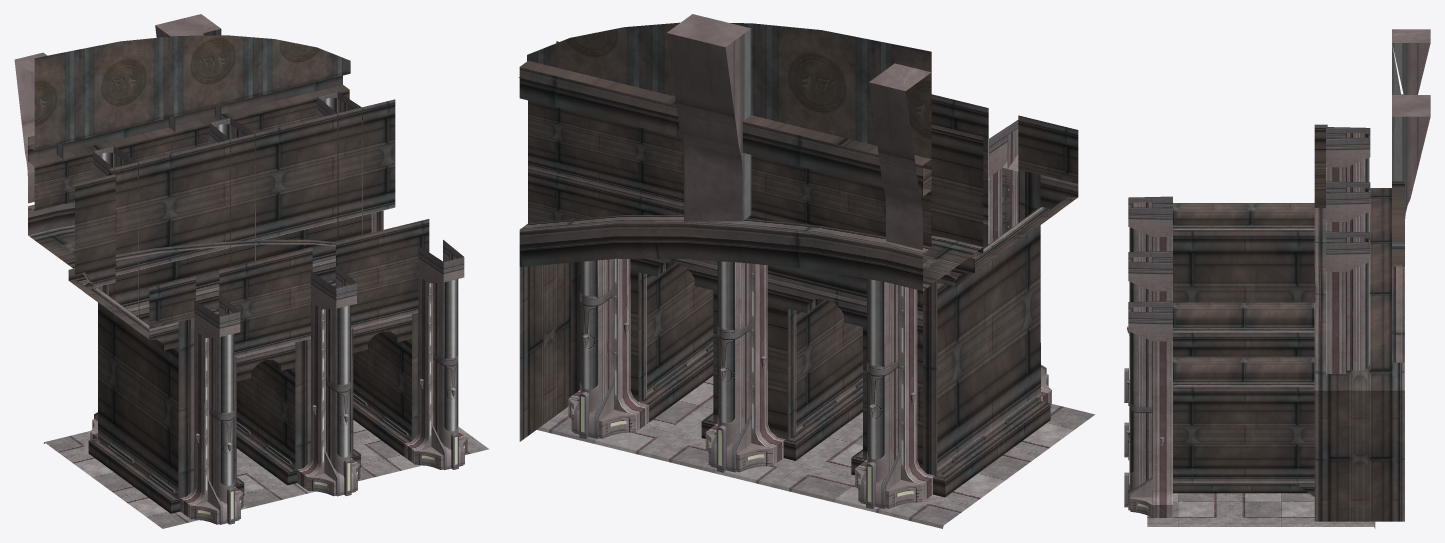
The model's file is Cor1_bldg_Grand_hall_entrence.fbx.
The picture shows the model from 3 angles, left to right: view 1: azimuth 30°, elevation 25°; view 2: azimuth 150°, elevation 25°; view 3: azimuth 270°, elevation 25°; orthographic projection. The views are drawn at different scales.
Parts seen in each view (by area): view 1: enterence, polymsh_detached114, polymsh_detached115, entrence_piller13, entrence_piller, entrence_piller12, polymsh_detached130, polymsh1382, polymsh_detached116, entrence_piller7, entrence_piller9, entrence_piller8 (+1 smaller); view 2: enterence, polymsh_detached115, polymsh_detached114, polymsh_detached116, polymsh_detached130, entrence_piller7, entrence_piller8, entrence_piller9, polymsh1382, entrence_piller13, polymsh; view 3: enterence, polymsh_detached115, entrence_piller, entrence_piller9, polymsh_detached130, polymsh_detached116, entrence_piller13, entrence_piller7, entrence_piller12, entrence_piller8, polymsh1382.
Part boxes in pixels (x1,y1,x2,y2): enterence: (68,99,429,511); polymsh_detached114: (28,35,350,150); polymsh_detached115: (28,75,349,269); entrence_piller13: (180,294,243,524); entrence_piller: (404,240,467,469); entrence_piller12: (297,266,360,496); polymsh_detached130: (43,420,488,528); polymsh1382: (88,399,410,513); polymsh_detached116: (14,14,221,203); entrence_piller7: (90,146,139,439); entrence_piller9: (317,91,362,240); entrence_piller8: (209,117,255,267); enterence: (556,41,1078,476); polymsh_detached115: (519,60,982,441); polymsh_detached114: (519,22,931,175); polymsh_detached116: (666,14,930,250); polymsh_detached130: (537,376,1095,528); entrence_piller7: (855,279,934,508); entrence_piller8: (705,261,785,472); entrence_piller9: (568,258,649,438); polymsh1382: (641,350,1050,497); entrence_piller13: (989,120,1051,408); polymsh: (653,341,1038,463); enterence: (1173,124,1327,496); polymsh_detached115: (1314,94,1404,521); entrence_piller: (1128,301,1172,517); entrence_piller9: (1326,231,1370,373); polymsh_detached130: (1147,493,1375,528); polymsh_detached116: (1392,29,1430,266); entrence_piller13: (1128,196,1172,405); entrence_piller7: (1326,127,1370,182); entrence_piller12: (1128,251,1172,460); entrence_piller8: (1326,181,1370,232); polymsh1382: (1173,484,1308,493).
Size of what is drawn, in the model's own units: 2800 by 3105 by 2378.
